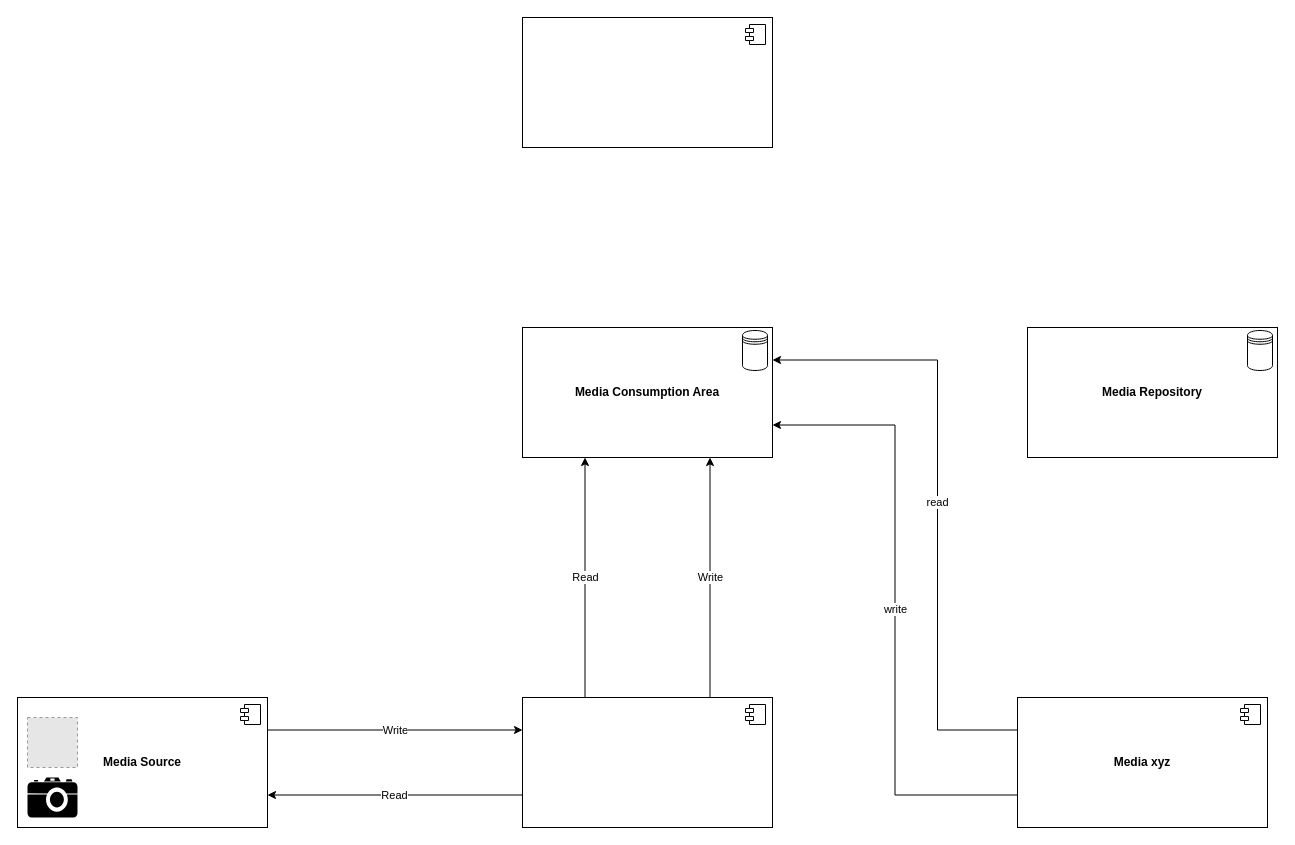
The diagram is 1295 pixels wide and 845 high, and some of its shapes have lost their labels. Grey dashed boxes stand in for pictures. Here are the shapes that lost their labels. From the top down, the centre of each, then its label:
At point (647, 82): "Media Consumer".
At point (647, 762): "Media Collector".
